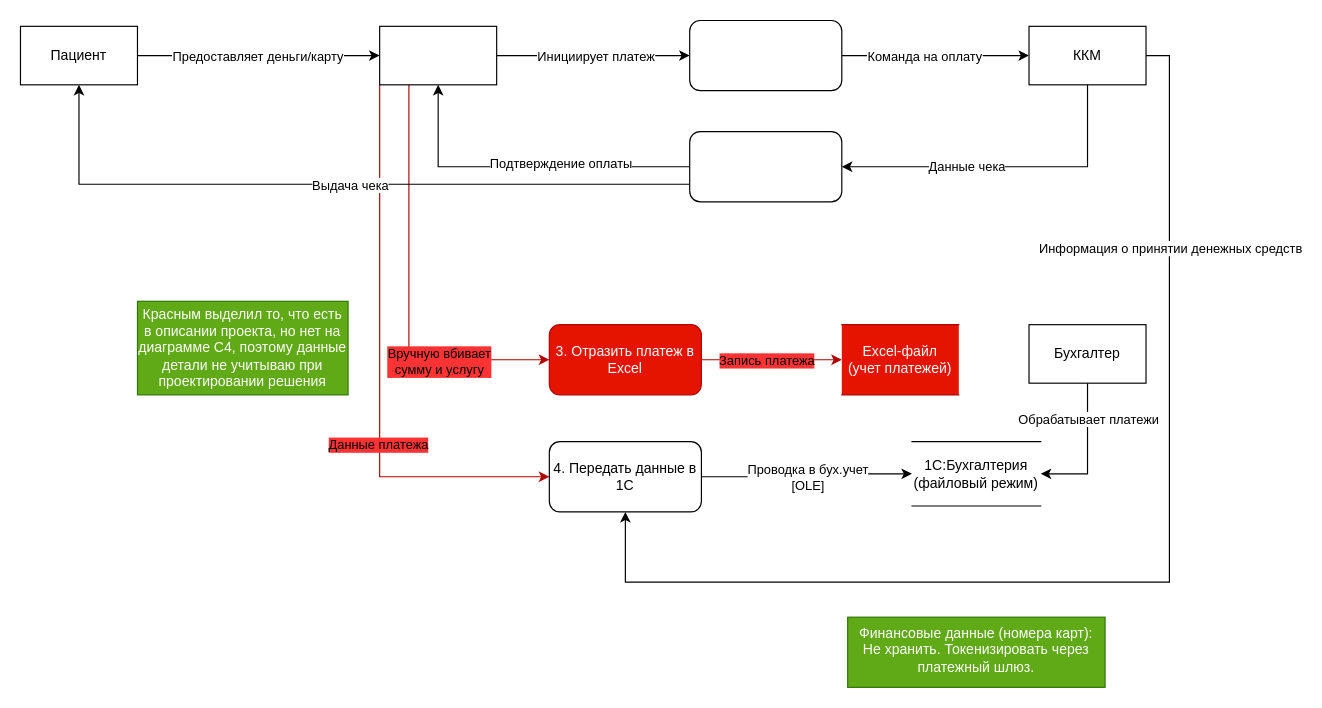
This 1322x708 diagram has some shape labels left out. The shapes that lost their labels are listed below. From the top down, each one's centre as x and y in pixels, then its label:
[437,55]: Кассир
[765,55]: 1. Принять оплату
[765,166]: 2. Выдать чек
